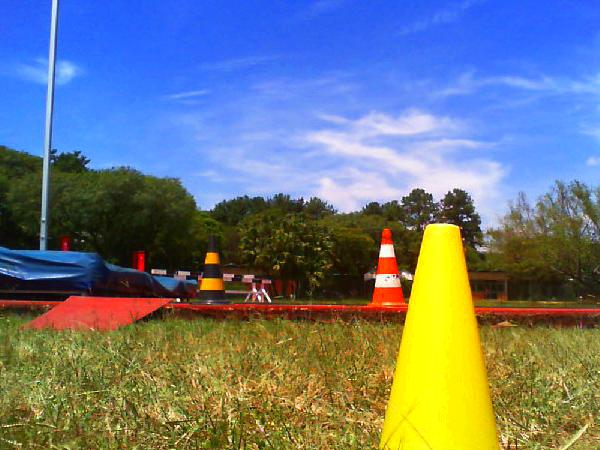0 cone: (346, 223, 532, 450), (367, 227, 408, 308), (189, 236, 230, 304)
